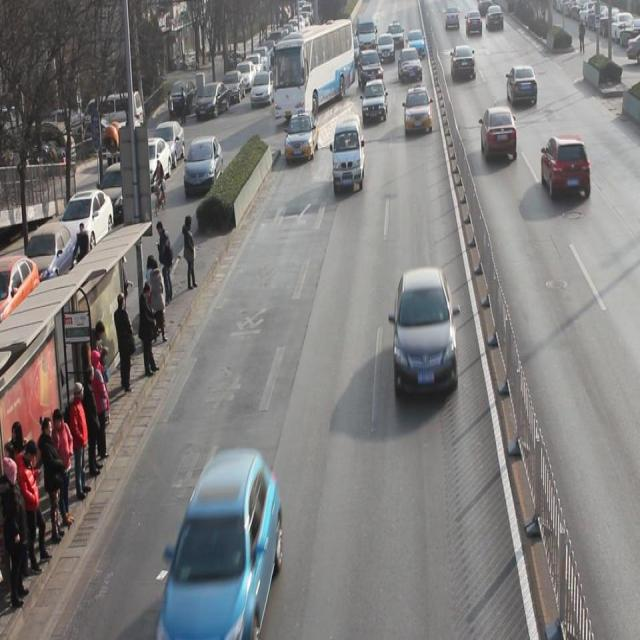car: (160, 447, 284, 640), (392, 269, 458, 397), (542, 135, 592, 203), (481, 106, 518, 161), (286, 113, 319, 161), (404, 87, 433, 137), (507, 64, 538, 110), (361, 80, 389, 124), (357, 48, 384, 92), (451, 44, 476, 84), (399, 46, 423, 85)
truck: (333, 114, 366, 192)
van: (274, 21, 356, 125)
